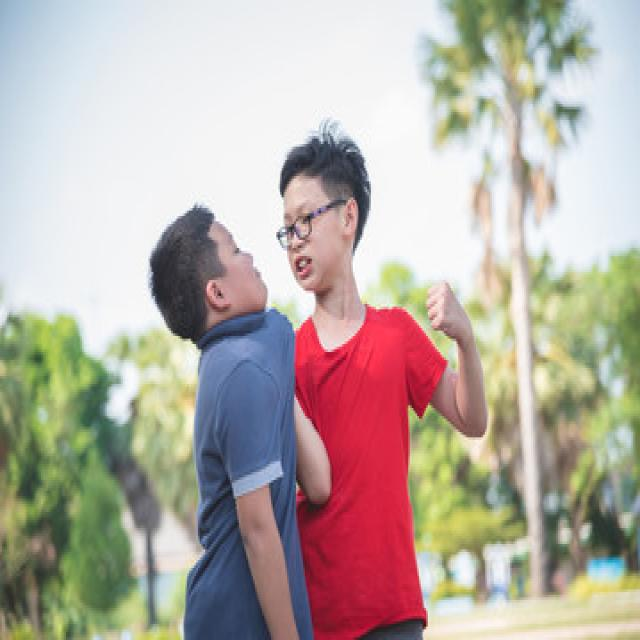fight: (147, 114, 490, 494)
